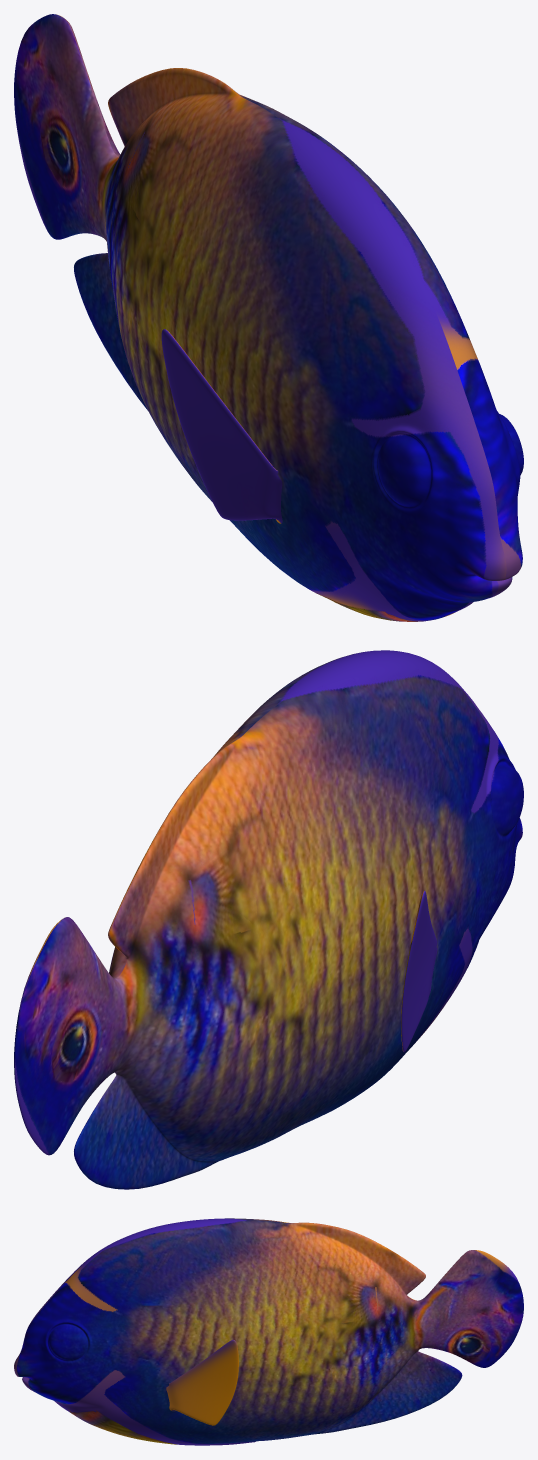
Rendered from 13009_Coral_Beauty_Angelfish_v1_l3.obj.
3 views of the same model, one above another, from view 1: azimuth 30°, elevation 25°; view 2: azimuth 150°, elevation 25°; view 3: azimuth 270°, elevation 25° (orthographic). The views are drawn at different scales.
Parts seen in each view (by area): view 1: 13009_Coral_Beauty_Angelfish_v1_l3.001; view 2: 13009_Coral_Beauty_Angelfish_v1_l3.001; view 3: 13009_Coral_Beauty_Angelfish_v1_l3.001.
Boxes of the visible parts, left/top/right/bottom form: 13009_Coral_Beauty_Angelfish_v1_l3.001: left=14, top=14, right=523, bottom=621; 13009_Coral_Beauty_Angelfish_v1_l3.001: left=14, top=650, right=523, bottom=1189; 13009_Coral_Beauty_Angelfish_v1_l3.001: left=14, top=1218, right=523, bottom=1445.
Bounding box in the file's own units: 0.369 × 0.5801 × 1.2.
